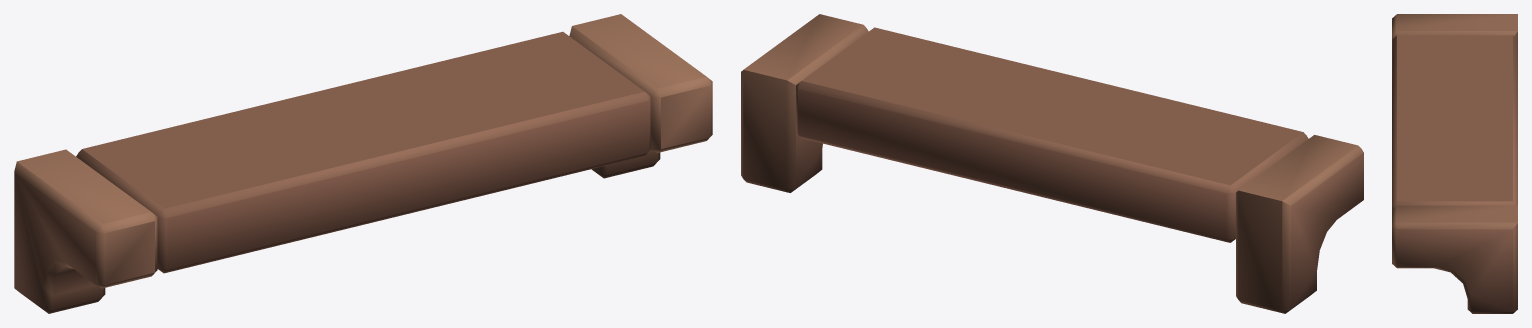
The model's file is shelf-a-big.glb.
3 views of the same model, side by side, from view 1: azimuth 30°, elevation 25°; view 2: azimuth 150°, elevation 25°; view 3: azimuth 270°, elevation 25° (orthographic). The views are drawn at different scales.
Parts seen in each view (by area): view 1: shelf-a-big; view 2: shelf-a-big; view 3: shelf-a-big.
Boxes of the visible parts, <box> form: shelf-a-big: <box>14,14,712,313</box>; shelf-a-big: <box>741,14,1363,313</box>; shelf-a-big: <box>1392,14,1517,313</box>.
Size of the model in its own units: 9 by 1.8 by 2.25.
